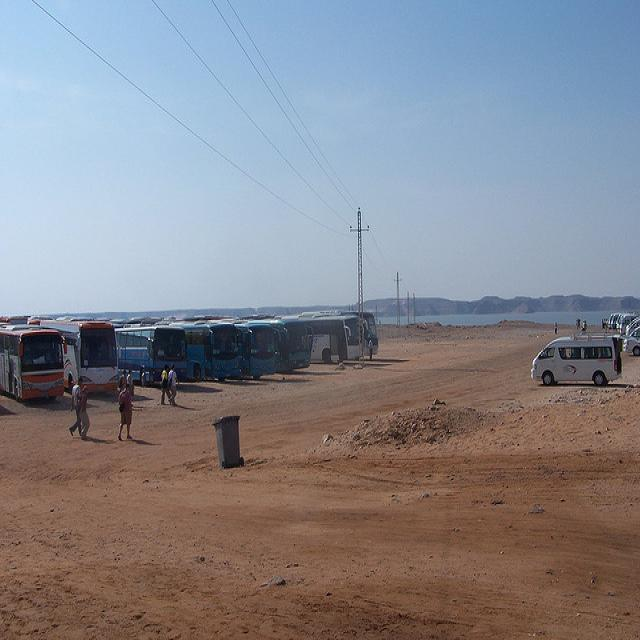Vehicle: (28, 319, 116, 393), (0, 325, 65, 402), (530, 339, 623, 386), (115, 326, 186, 384), (185, 322, 242, 382), (249, 317, 310, 372), (300, 315, 363, 363), (235, 322, 282, 378), (357, 312, 378, 358), (622, 325, 640, 358), (619, 314, 640, 334), (626, 316, 640, 337), (616, 314, 622, 329)
